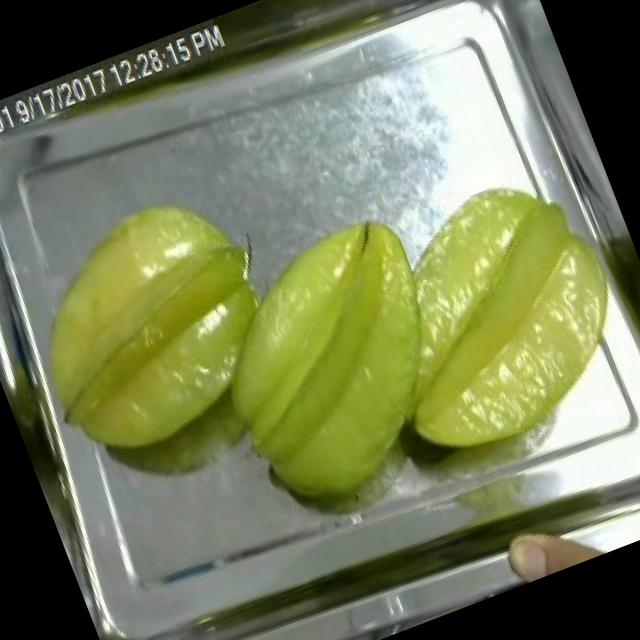fruit: (284, 136, 640, 501), (165, 193, 510, 548), (0, 157, 321, 490), (491, 486, 640, 589)
